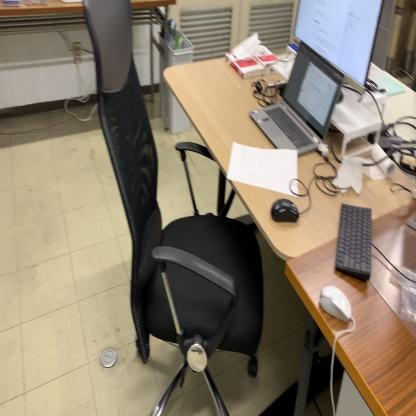chair: (80, 0, 263, 416)
